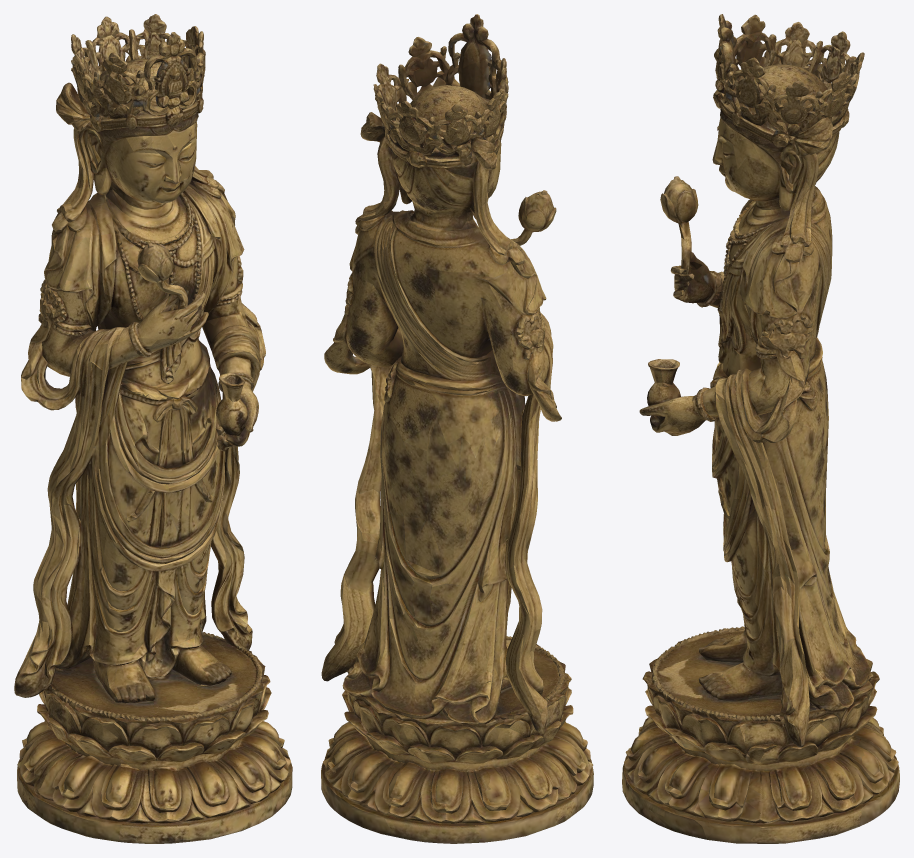
Rendered from statue-bosalS.glb.
3 renders of one model, left to right at view 1: azimuth 30°, elevation 25°; view 2: azimuth 150°, elevation 25°; view 3: azimuth 270°, elevation 25°, orthographic.
Visible parts, largest first — view 1: output_unwrapped; view 2: output_unwrapped; view 3: output_unwrapped.
Part boxes in pixels (x1,y1,x2,y2): output_unwrapped: [14, 14, 292, 843]; output_unwrapped: [321, 14, 593, 843]; output_unwrapped: [622, 14, 899, 843].
Size of the model in its own units: 0.6213 by 1.9 by 0.6194.
Materials: 1 (1 with a texture image).
